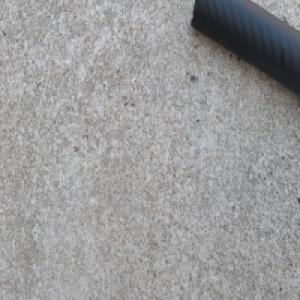LuggagePart: (188, 0, 300, 108)
